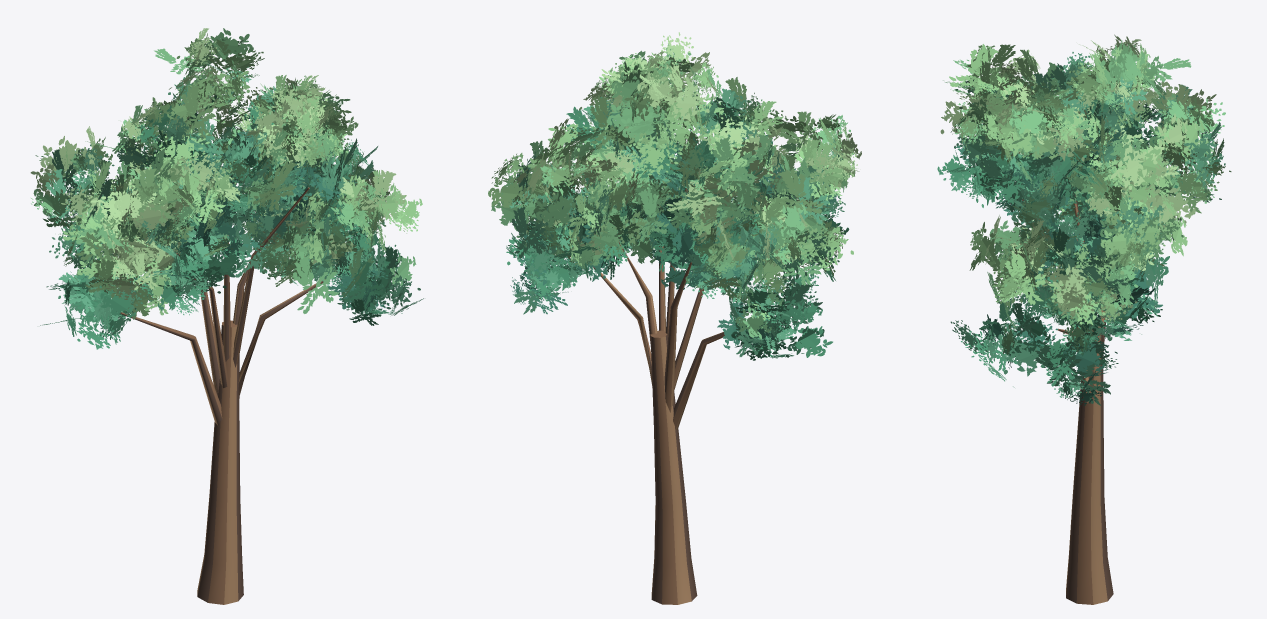
File: Tree_01_Soft_Emerald.glb
The picture shows the model from 3 angles, left to right: view 1: azimuth 30°, elevation 25°; view 2: azimuth 150°, elevation 25°; view 3: azimuth 270°, elevation 25°; orthographic projection. The views are drawn at different scales.
Parts seen in each view (by area): view 1: Tree_01_Soft_Emerald; view 2: Tree_01_Soft_Emerald; view 3: Tree_01_Soft_Emerald.
Boxes of the visible parts, box(x1,y1,x2,y2) form: Tree_01_Soft_Emerald: box(30, 28, 423, 604); Tree_01_Soft_Emerald: box(488, 32, 861, 604); Tree_01_Soft_Emerald: box(937, 34, 1231, 604).
Size of the model in its own units: 5.19 by 7.54 by 3.92.
9 materials, 6 textured.
